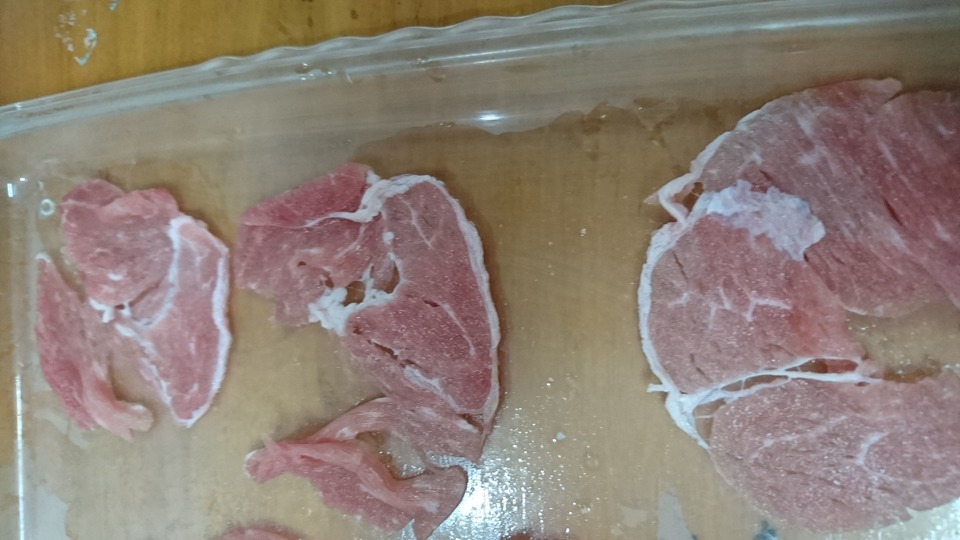restructured meat: (627, 66, 960, 533), (227, 165, 504, 525), (21, 169, 226, 425)
